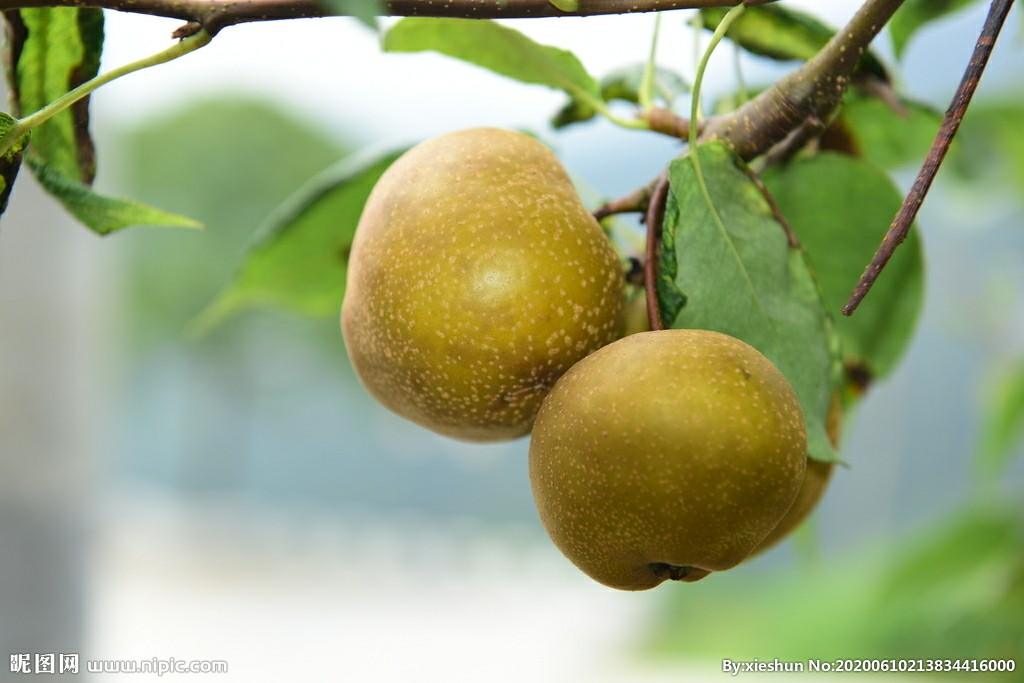pear: (338, 125, 624, 440), (529, 328, 815, 594)
